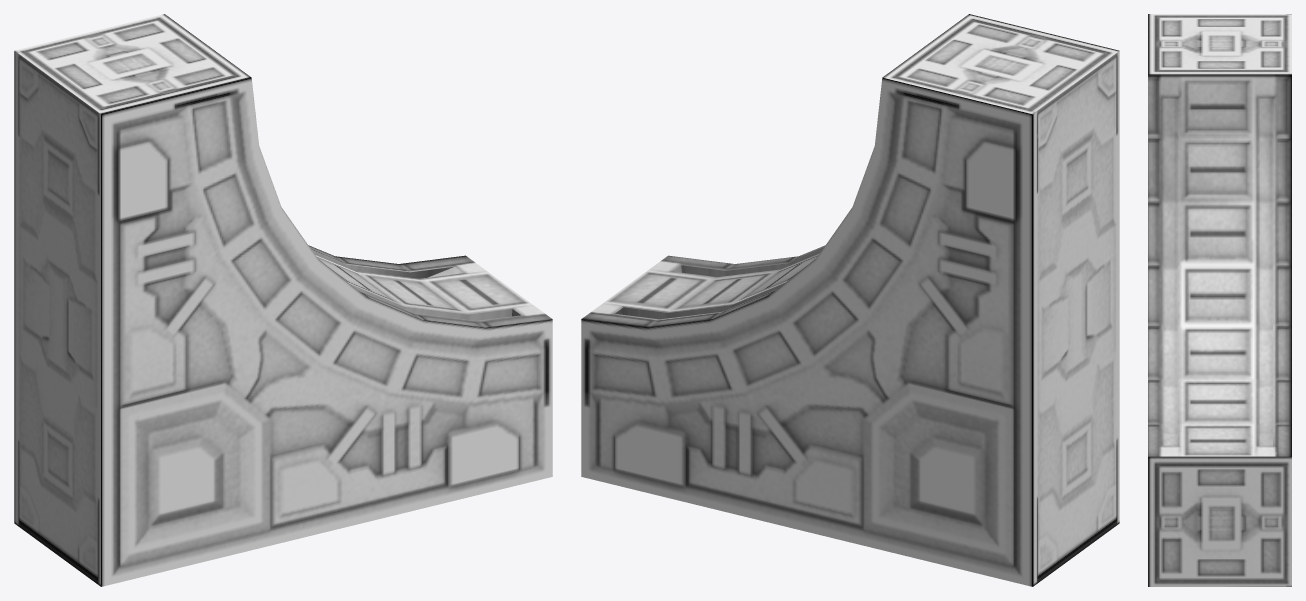
File: Slope1.fbx
3 renders of one model, left to right at view 1: azimuth 30°, elevation 25°; view 2: azimuth 150°, elevation 25°; view 3: azimuth 270°, elevation 25°, orthographic. The views are drawn at different scales.
Parts seen in each view (by area): view 1: Slope10; view 2: Slope10; view 3: Slope10.
Part boxes in pixels (x1,y1,x2,y2): Slope10: [14, 14, 552, 586]; Slope10: [581, 14, 1119, 586]; Slope10: [1148, 14, 1291, 586].
Size of the model in its own units: 3 by 3 by 1.
